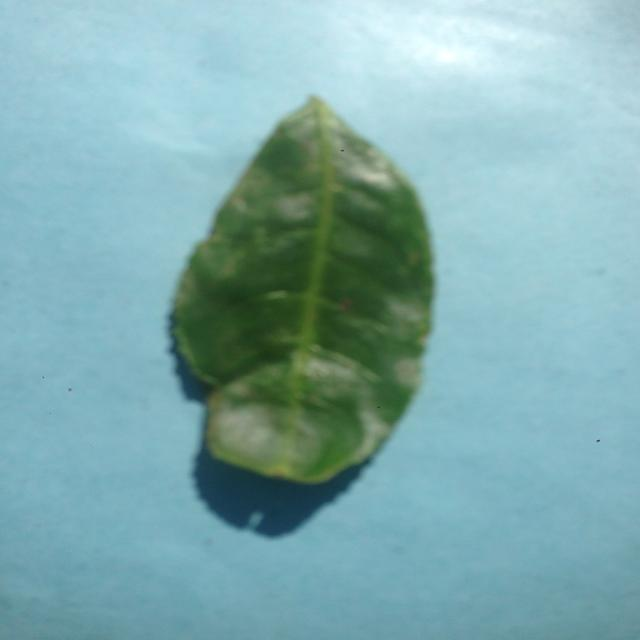Healthy: (129, 71, 463, 532)
